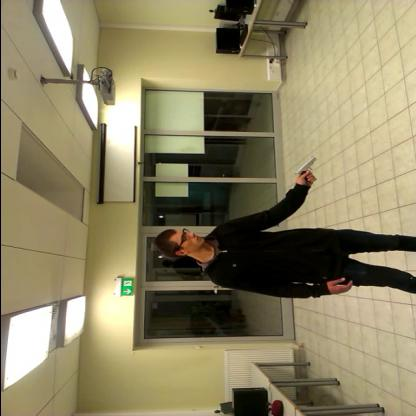Pistol: (288, 155, 326, 191)
